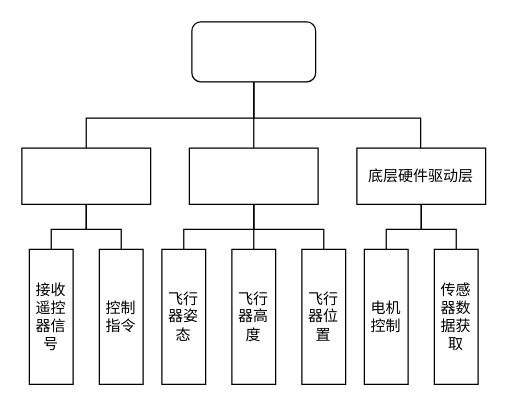
Some shapes in this 508 by 406 pixel diagram are drawn without their labels. The shapes that lost their labels are listed below. From the top down, each one's centre as x and y in pixels, then its label:
point 253,51: 系统架构
point 86,175: 上层控制层
point 253,175: 中间逻辑层
